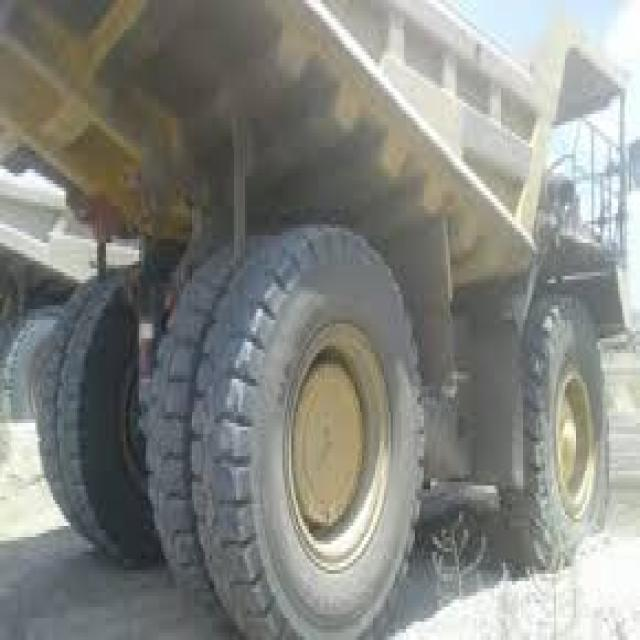dump_truck: (0, 0, 636, 622)
